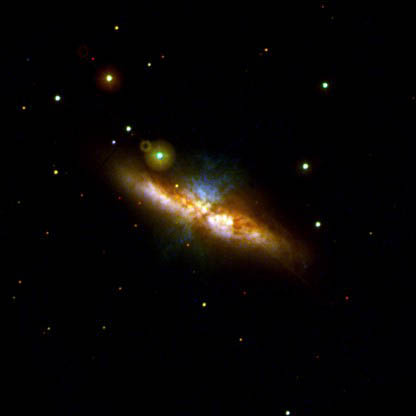Messier 82: (102, 128, 318, 284)
